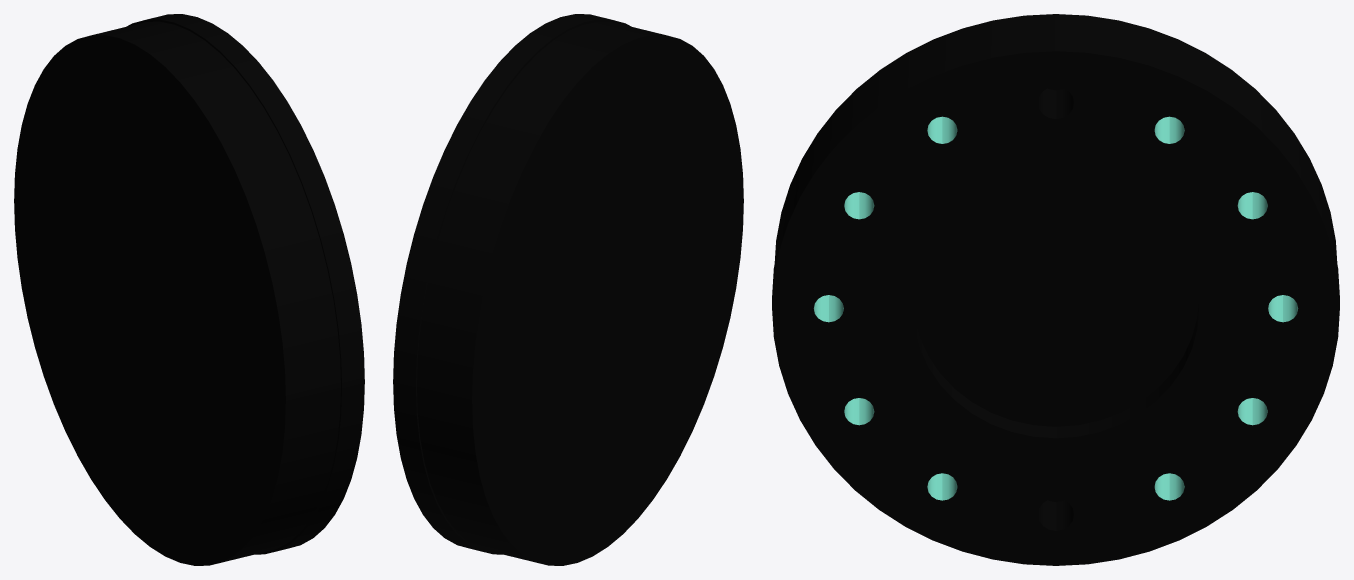
3 views of the same model, side by side, from view 1: azimuth 30°, elevation 25°; view 2: azimuth 150°, elevation 25°; view 3: azimuth 270°, elevation 25° (orthographic). The views are drawn at different scales.
Parts seen in each view (by area): view 1: Mesh_0; view 2: Mesh_0; view 3: Mesh_0.
Boxes of the visible parts, <box> form: Mesh_0: <box>14,14,364,565</box>; Mesh_0: <box>393,14,743,565</box>; Mesh_0: <box>772,14,1339,565</box>.
Bounding box in the file's own units: 0.0205 × 0.125 × 0.125.
